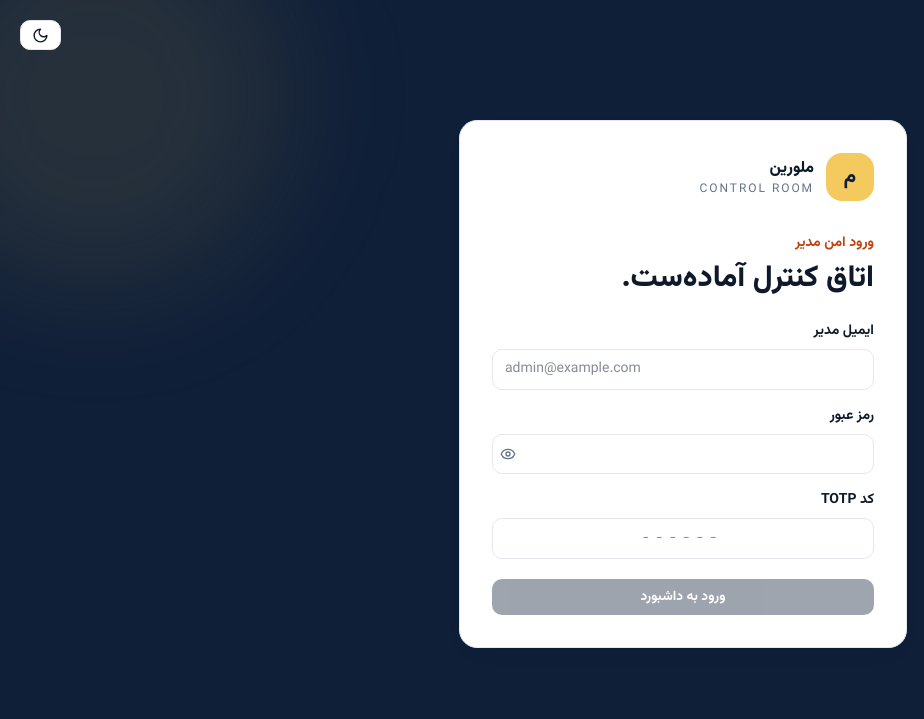
Test: AdminAuth sign-in failures › wrong TOTP: amber notice under the TOTP field, a different message, the code is cleared and focused
This screenshot has width=924, height=719.
Type "root@example.com" into the field labelled "ایمیل مدیر" at (683, 369), box [492,349,874,390]
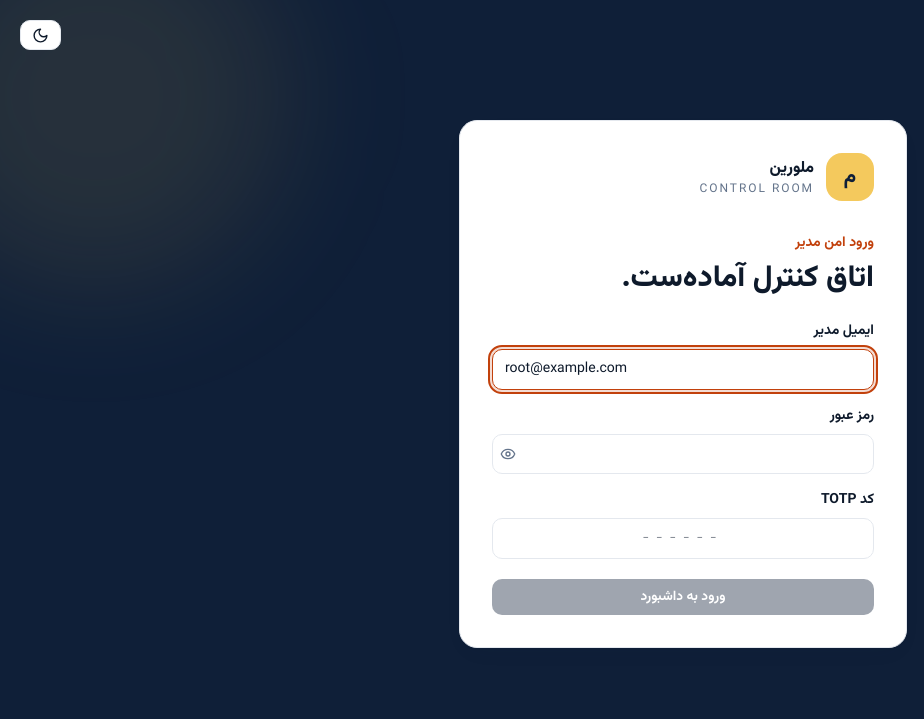
Type "a-long-enough-password" into the password field labelled "رمز عبور" at (683, 454), box [492,434,874,474]
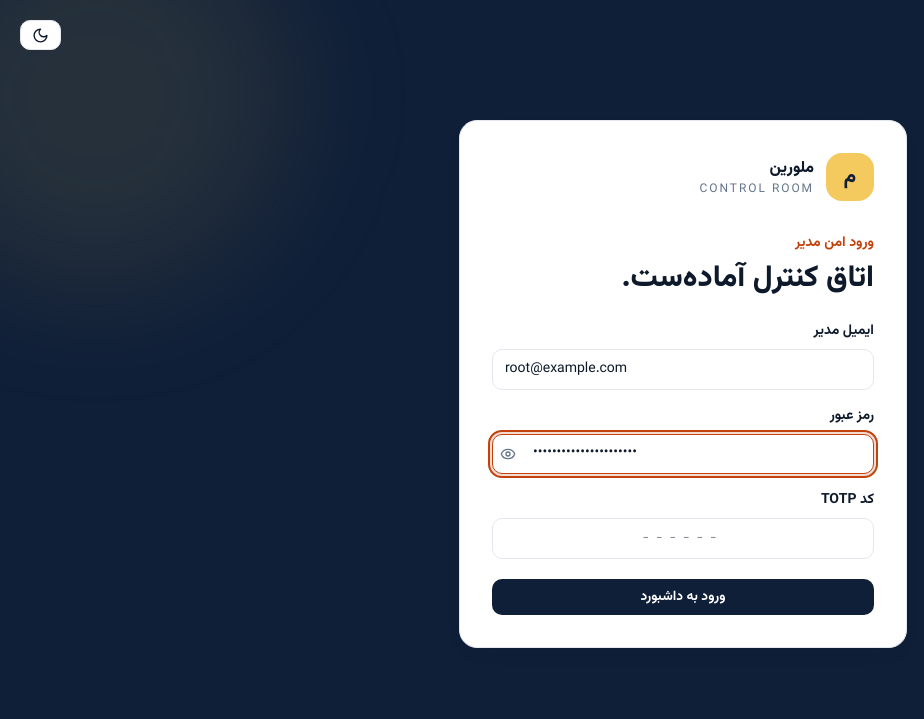
Type "000000" into the field labelled "کد TOTP" at (683, 538), box [492,518,874,559]
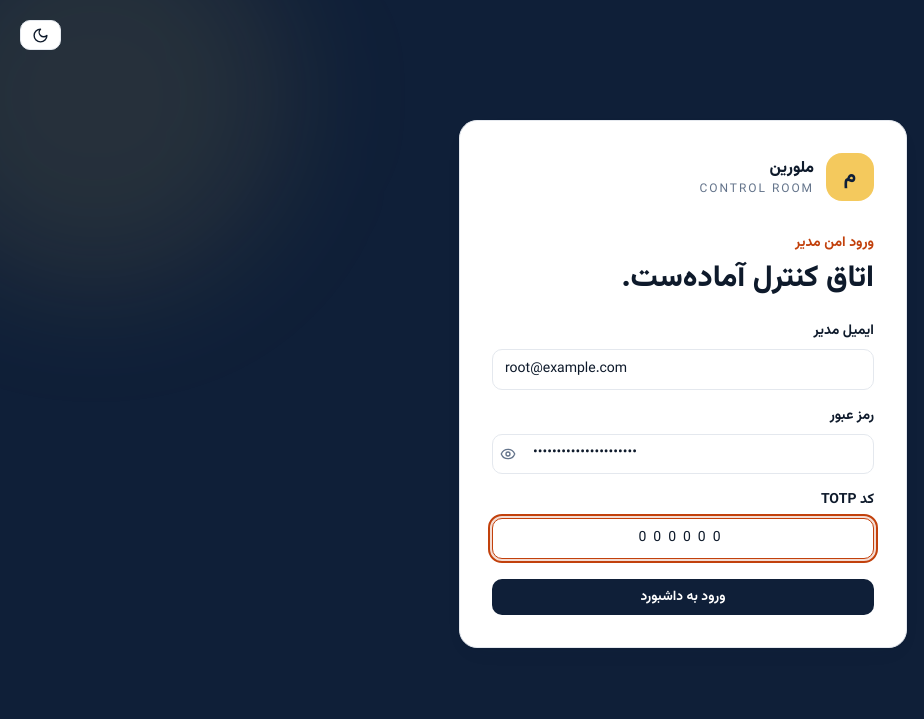
Click the button "ورود به داشبورد" at (683, 597), box [492,579,874,615]
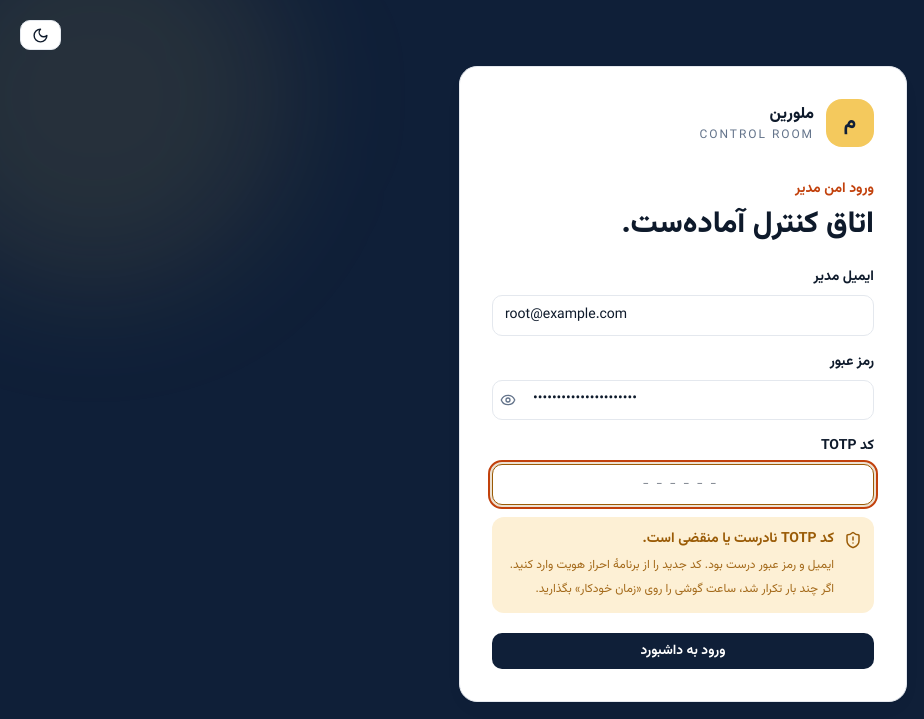
Expected: the message with test id "login-failure-totp" does not show "ایمیل یا رمز عبور نادرست است.", [492,517,874,613]
Expected: the message with test id "login-failure-totp" shows "کد TOTP نادرست یا منقضی است.", [642,528,834,550]
Expected: the field labelled "کد TOTP" is empty, [492,464,874,505]
